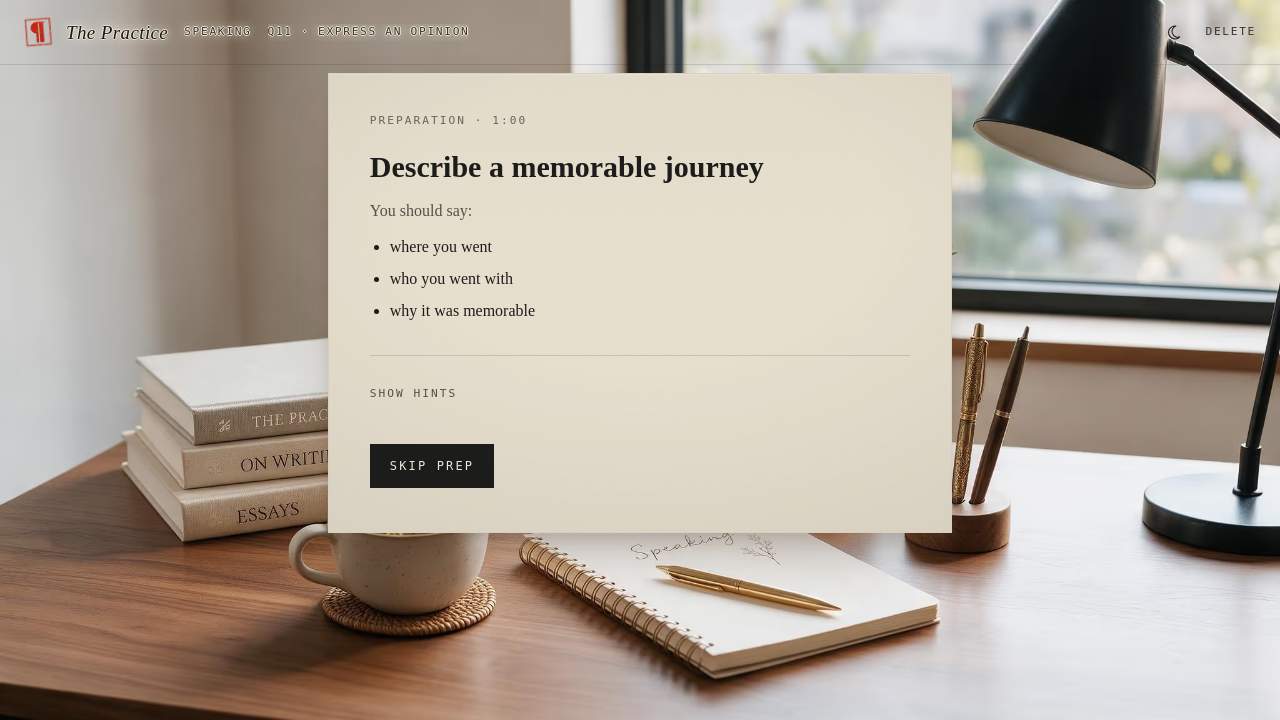
Test: SpeakingAttemptPage phases › blocks submit when the clip is under 3 seconds
Click the button "Skip prep". click: (432, 466)
box: [370,444,494,488]
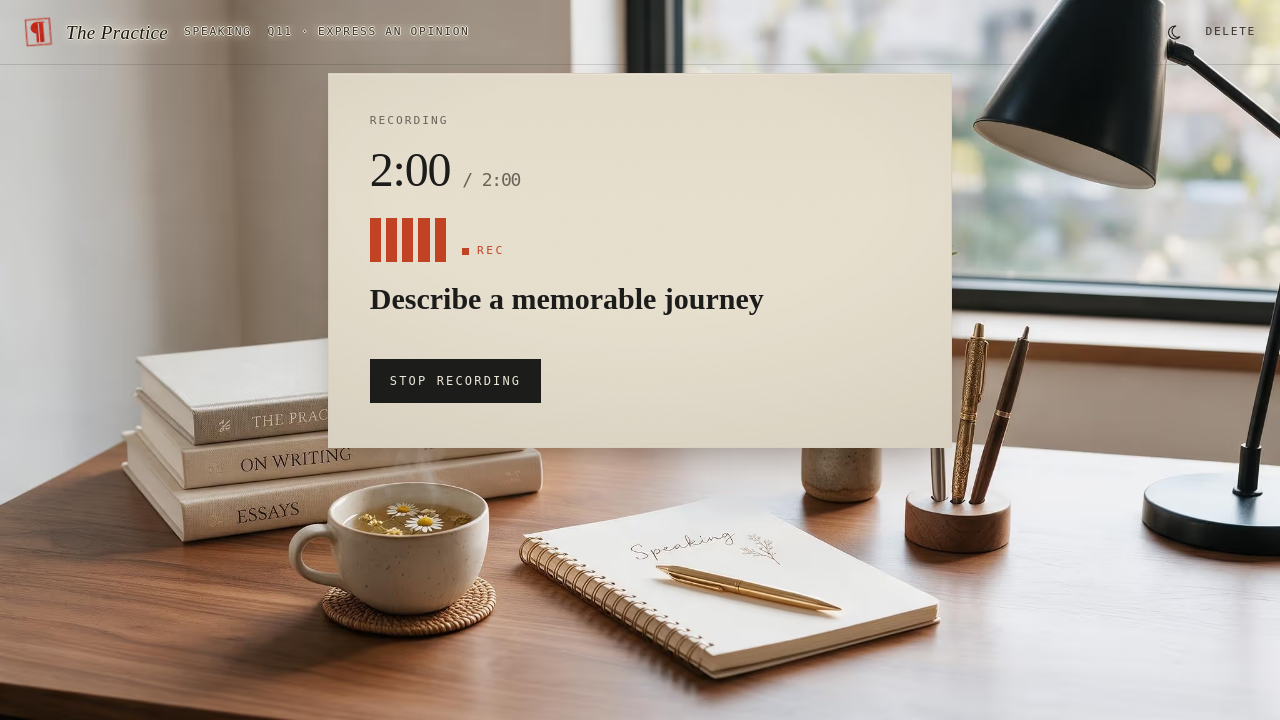
Expected: the button "Stop recording" is shown
Click the button "Stop recording". click: (456, 381)
box: [370,359,541,403]
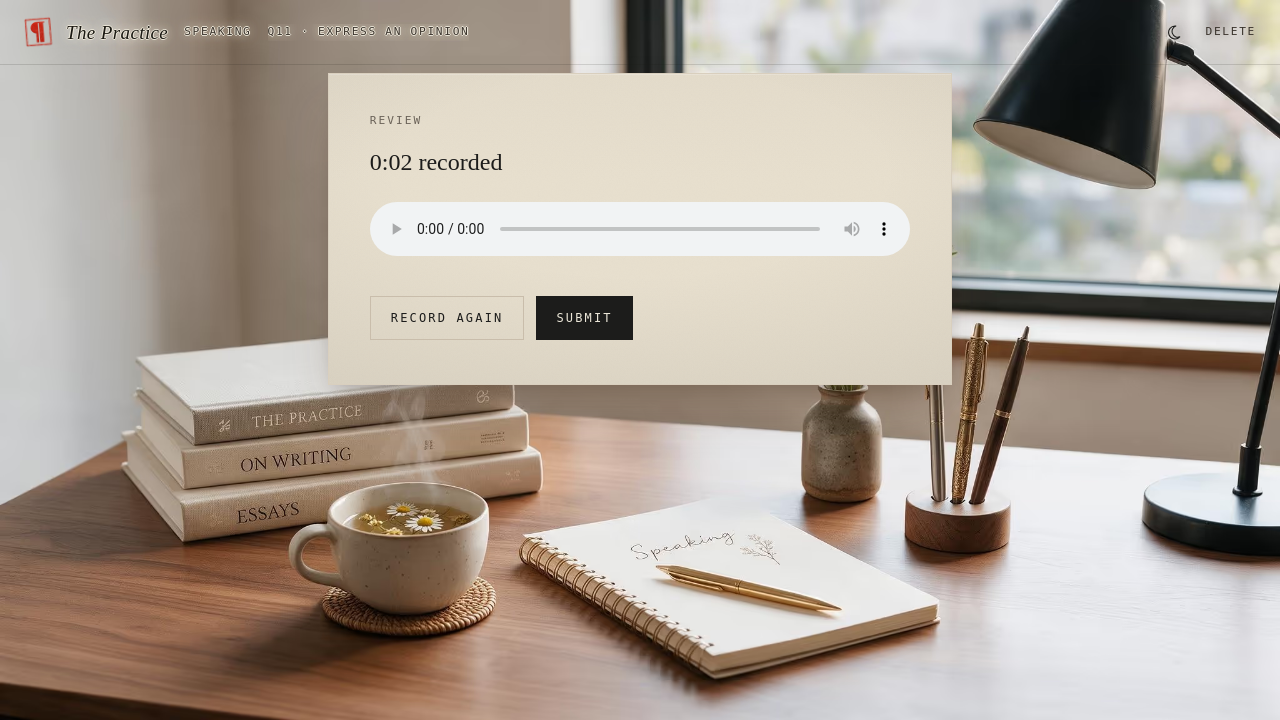
Click the button "Submit". click: (585, 318)
box: [536,296,633,340]
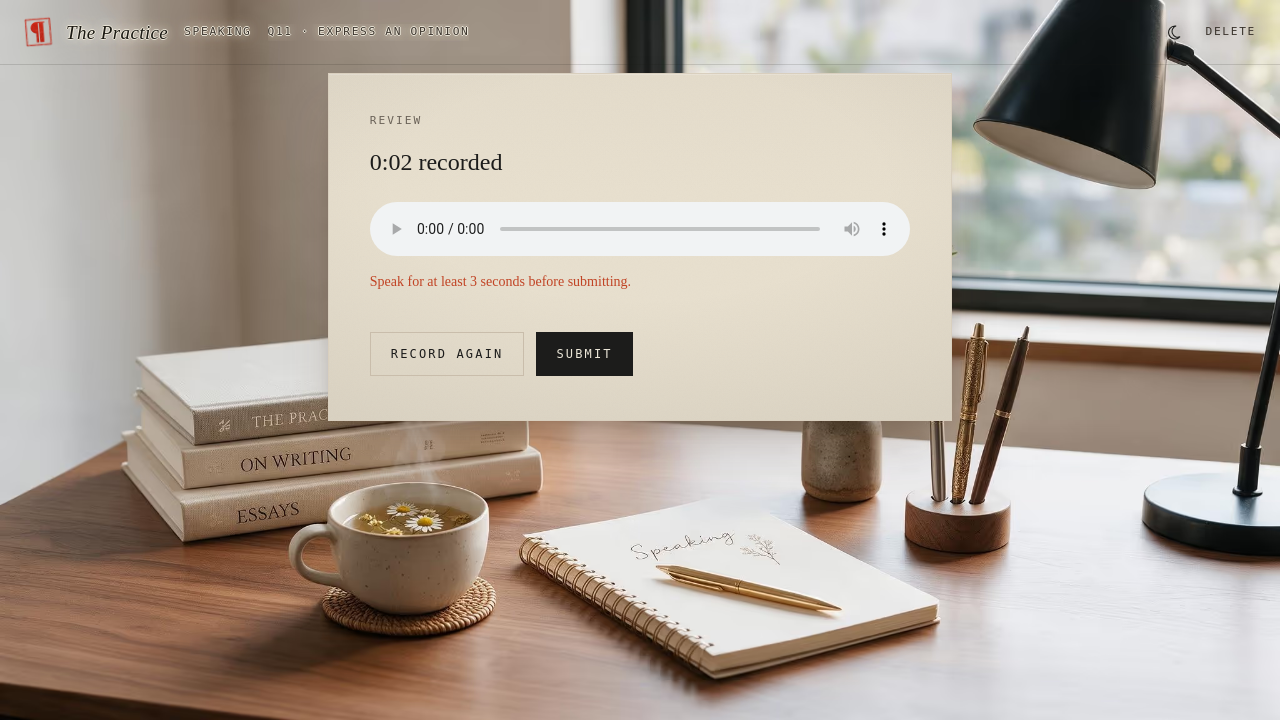
Expected: the text "Speak for at least 3 seconds before submitting." is shown, [370,274,631,289]
